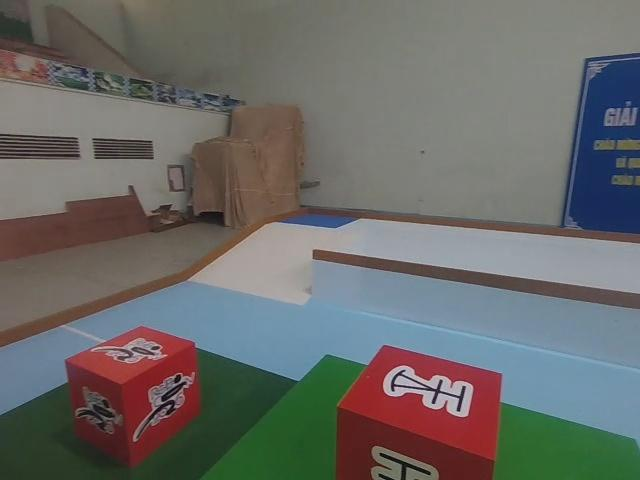R1: (59, 326, 209, 464)
R2 Real: (333, 340, 504, 480)
